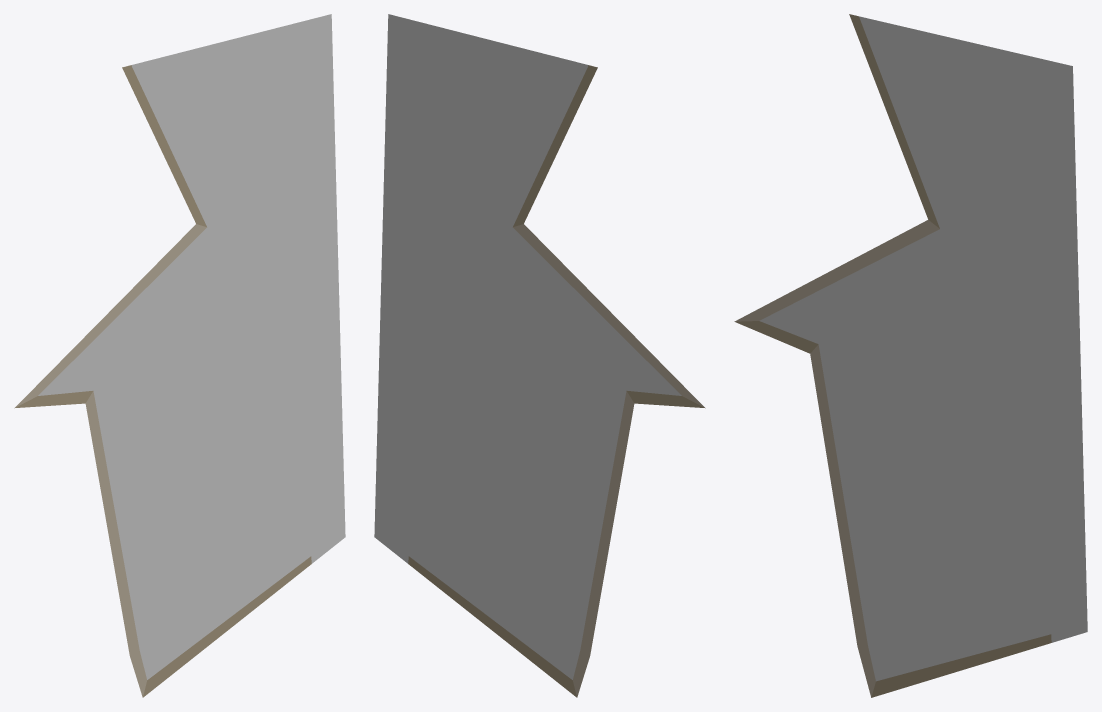
Rendered from treasureQuestPuzzlePiecesB.glb.
3 renders of one model, left to right at view 1: azimuth 30°, elevation 25°; view 2: azimuth 150°, elevation 25°; view 3: azimuth 330°, elevation 25°, orthographic. The views are drawn at different scales.
Visible parts, largest first — view 1: treasureQuestPuzzlePiecesB; view 2: treasureQuestPuzzlePiecesB; view 3: treasureQuestPuzzlePiecesB.
Boxes of the visible parts, left/top/right/bottom form: treasureQuestPuzzlePiecesB: left=14, top=14, right=345, bottom=697; treasureQuestPuzzlePiecesB: left=374, top=14, right=705, bottom=697; treasureQuestPuzzlePiecesB: left=734, top=14, right=1087, bottom=697.
Bounding box in the file's own units: 0.4702 × 0.8654 × 0.
